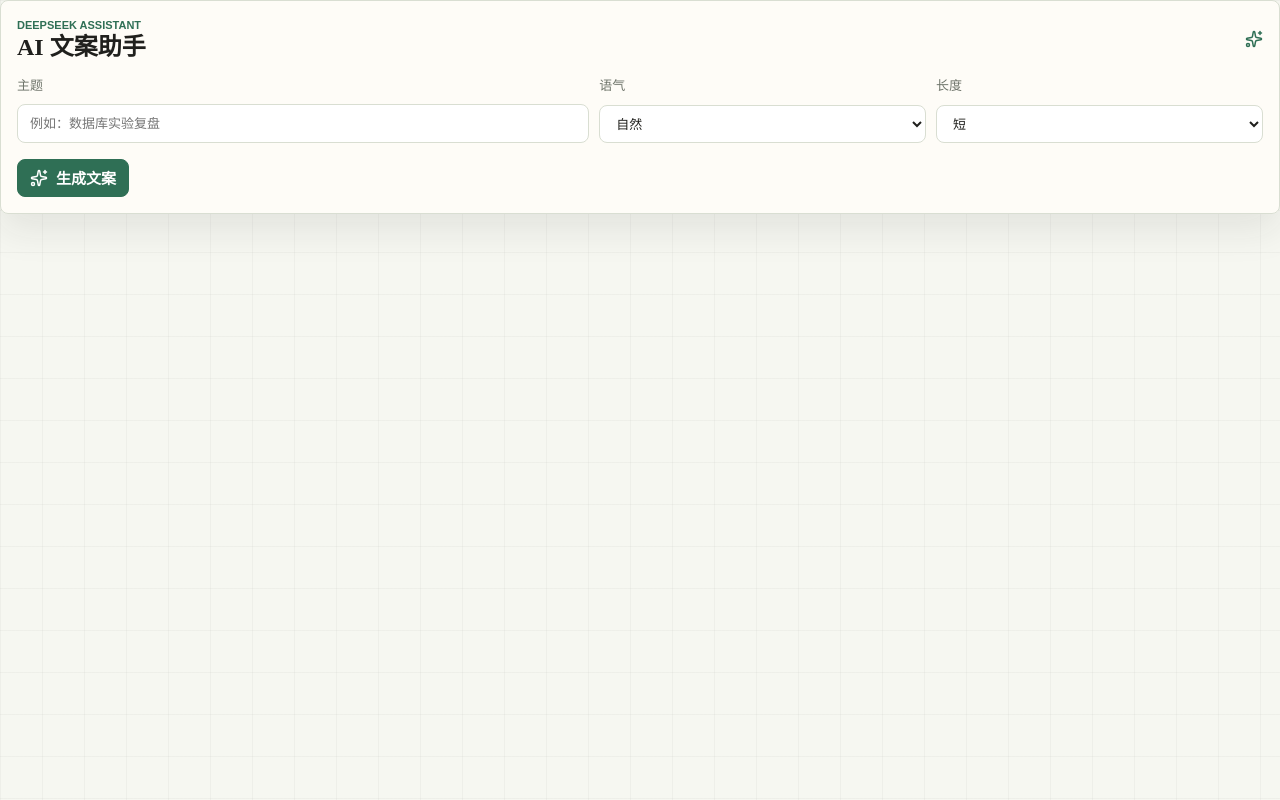
Test: AiDraftPanel › shows an error when topic is empty
This screenshot has width=1280, height=800.
Step 1. Click the button with test id "generate" → coordinates (73, 178), box [17, 159, 129, 197]
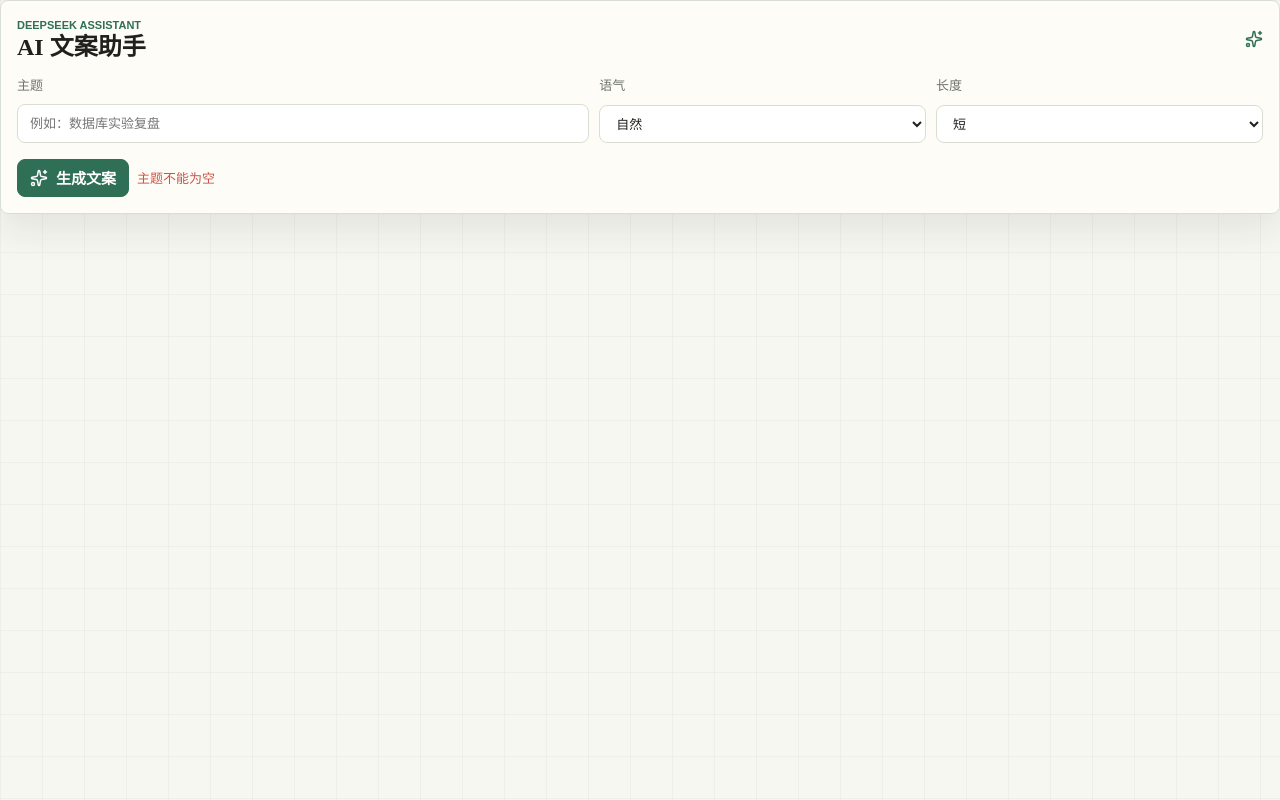
expect the text "主题不能为空" is shown: met, box [137, 169, 215, 188]
